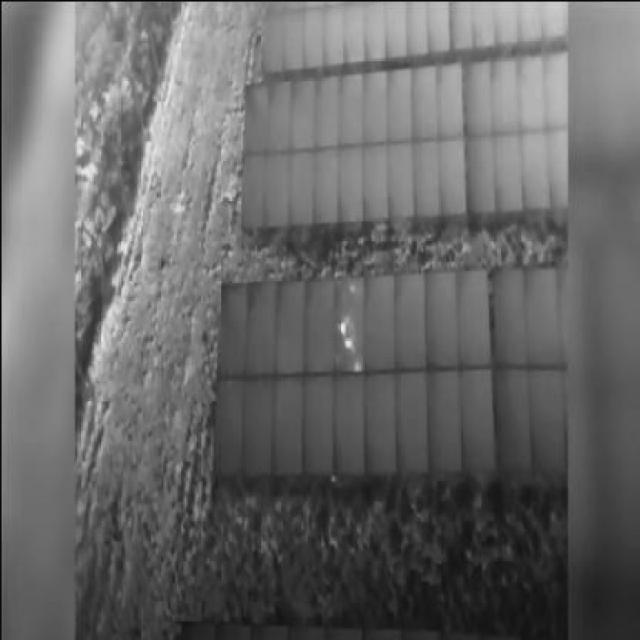hotspot: (353, 349, 362, 368), (336, 314, 346, 329), (345, 332, 353, 348)
